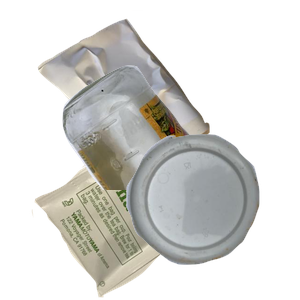glass: (60, 63, 300, 243)
paper: (35, 10, 237, 178)
plastic: (124, 132, 300, 300)
trash: (29, 124, 238, 300)
